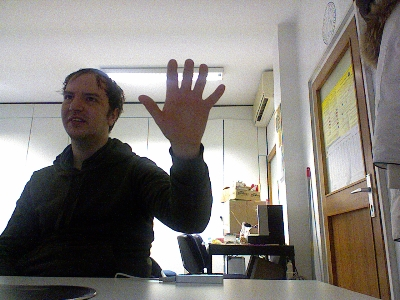布: (137, 57, 225, 144)
